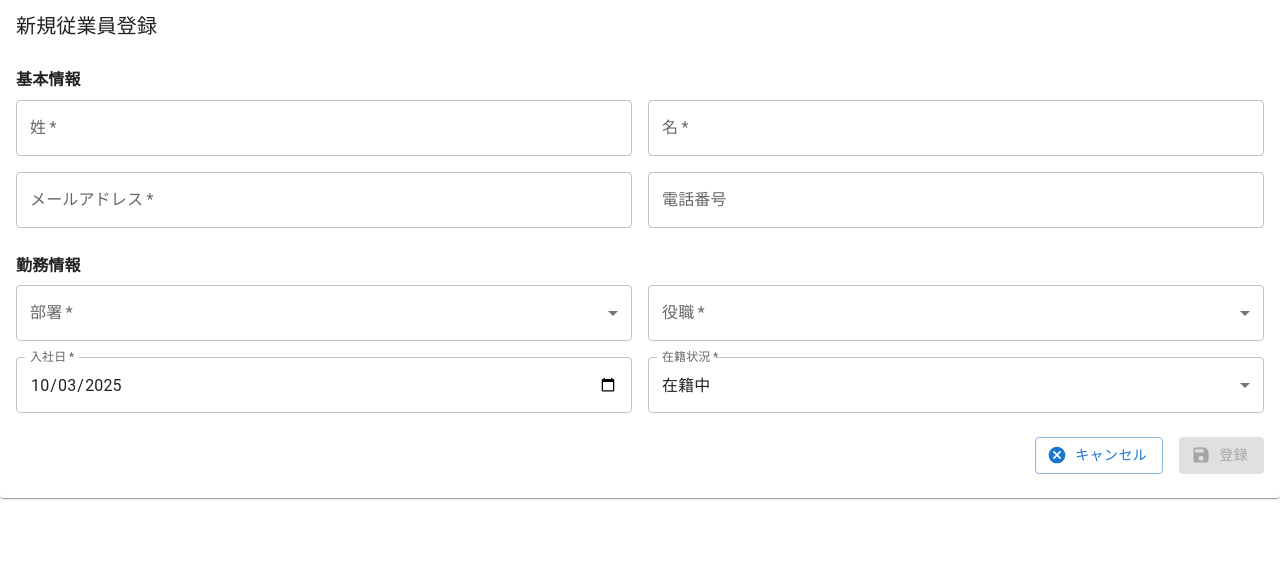
Test case: EmployeeForm › shows validation errors for required fields
Note: Enter and clear first name
In the field labelled "名 *": (956, 128) top-left (648, 100), bottom-right (1264, 156), type "a"
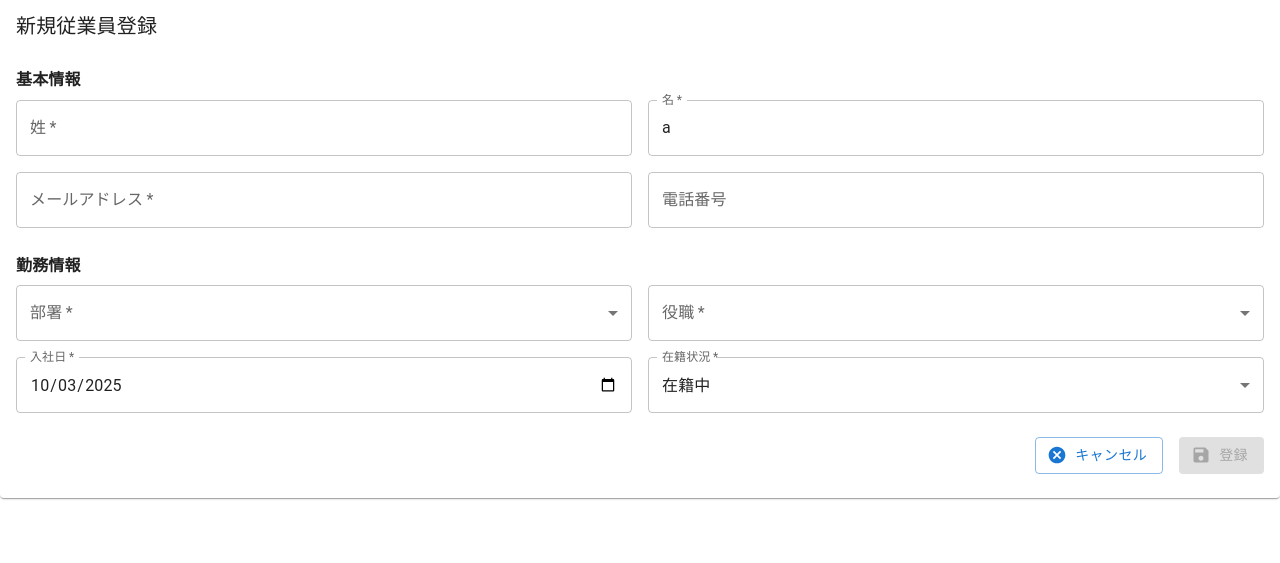
Clear the field labelled "名 *": (956, 128) top-left (648, 100), bottom-right (1264, 156)
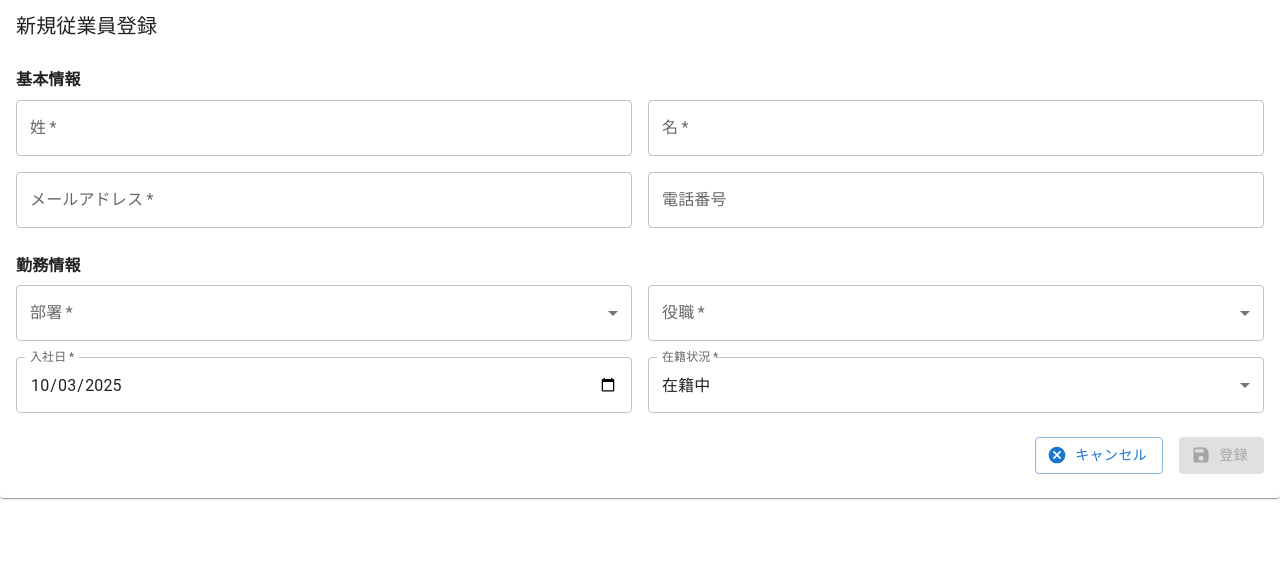
Note: Enter and clear last name
In the field labelled "姓 *": (324, 128) top-left (16, 100), bottom-right (632, 156), type "a"
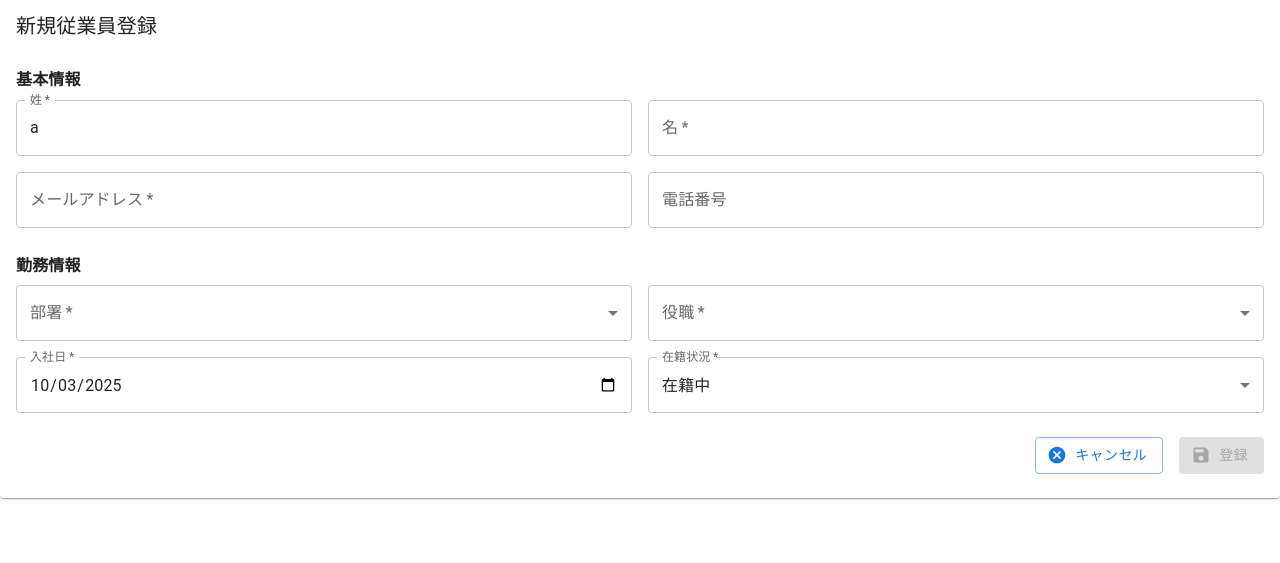
Clear the field labelled "姓 *": (324, 128) top-left (16, 100), bottom-right (632, 156)
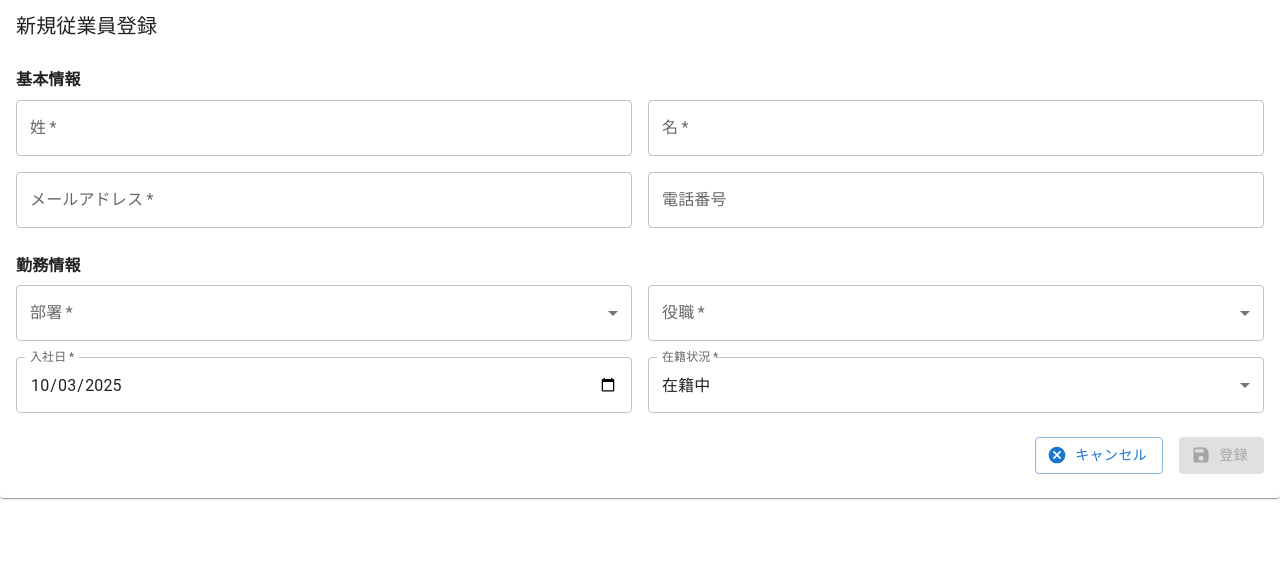
Note: Enter and clear email
In the field labelled "メールアドレス *": (324, 200) top-left (16, 172), bottom-right (632, 228), type "a"
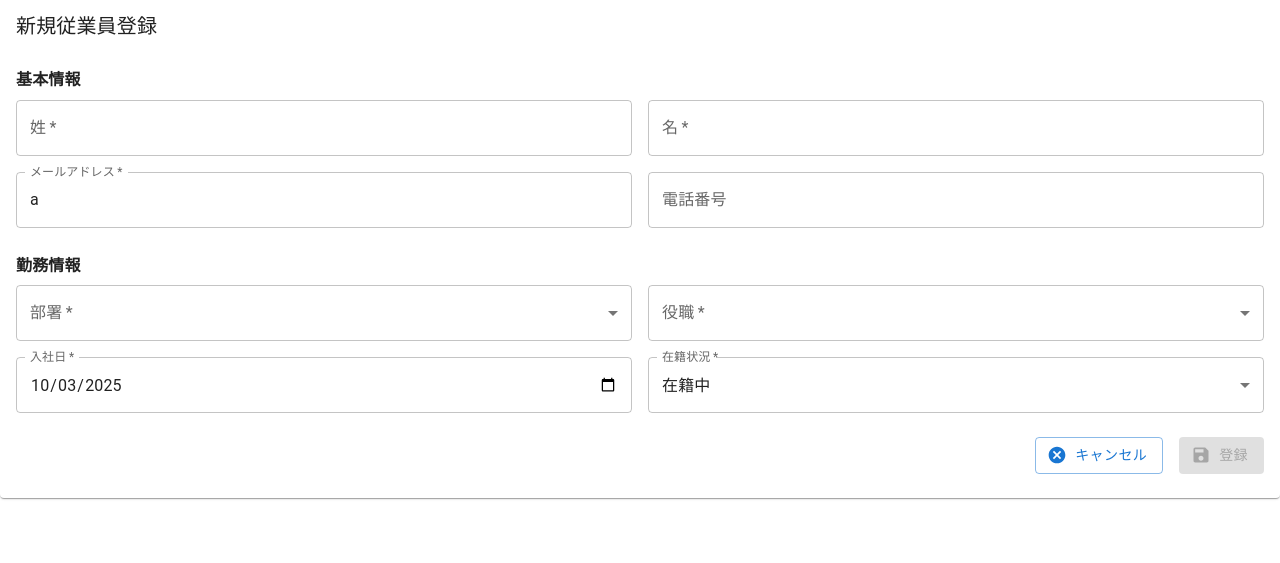
Clear the field labelled "メールアドレス *": (324, 200) top-left (16, 172), bottom-right (632, 228)
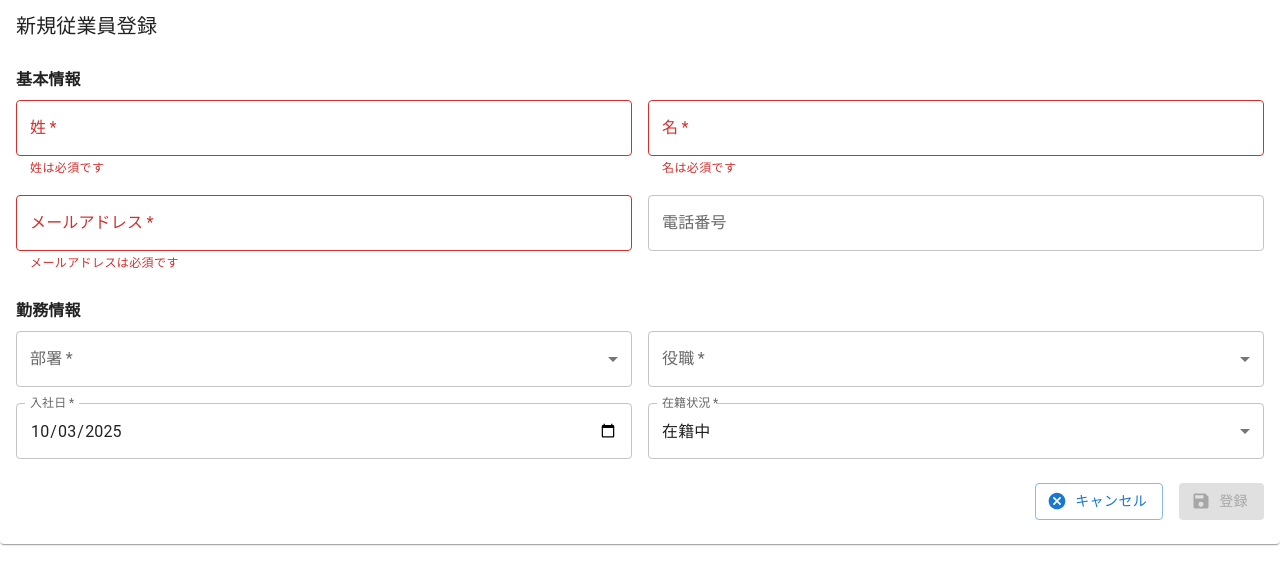
Now the text "名は必須です" is shown, box top-left (662, 161), bottom-right (736, 175)
Now the text "姓は必須です" is shown, box top-left (30, 161), bottom-right (104, 175)
Now the text "メールアドレスは必須です" is shown, box top-left (30, 256), bottom-right (179, 270)
